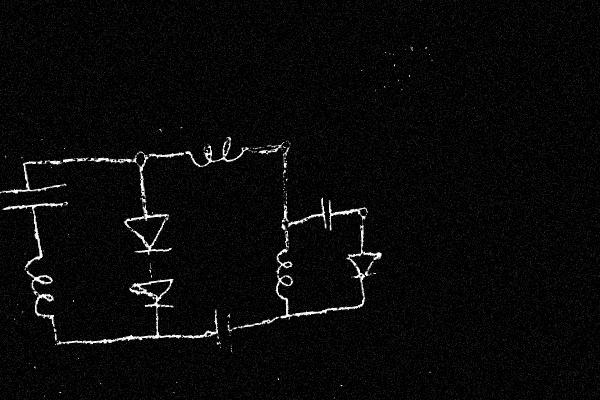capacitor: (0, 175, 71, 218), (210, 302, 239, 357), (316, 194, 336, 234)
diode: (121, 205, 176, 259), (127, 268, 179, 315), (344, 245, 384, 285)
inductor: (22, 241, 61, 333), (183, 132, 254, 172), (272, 238, 295, 307)
